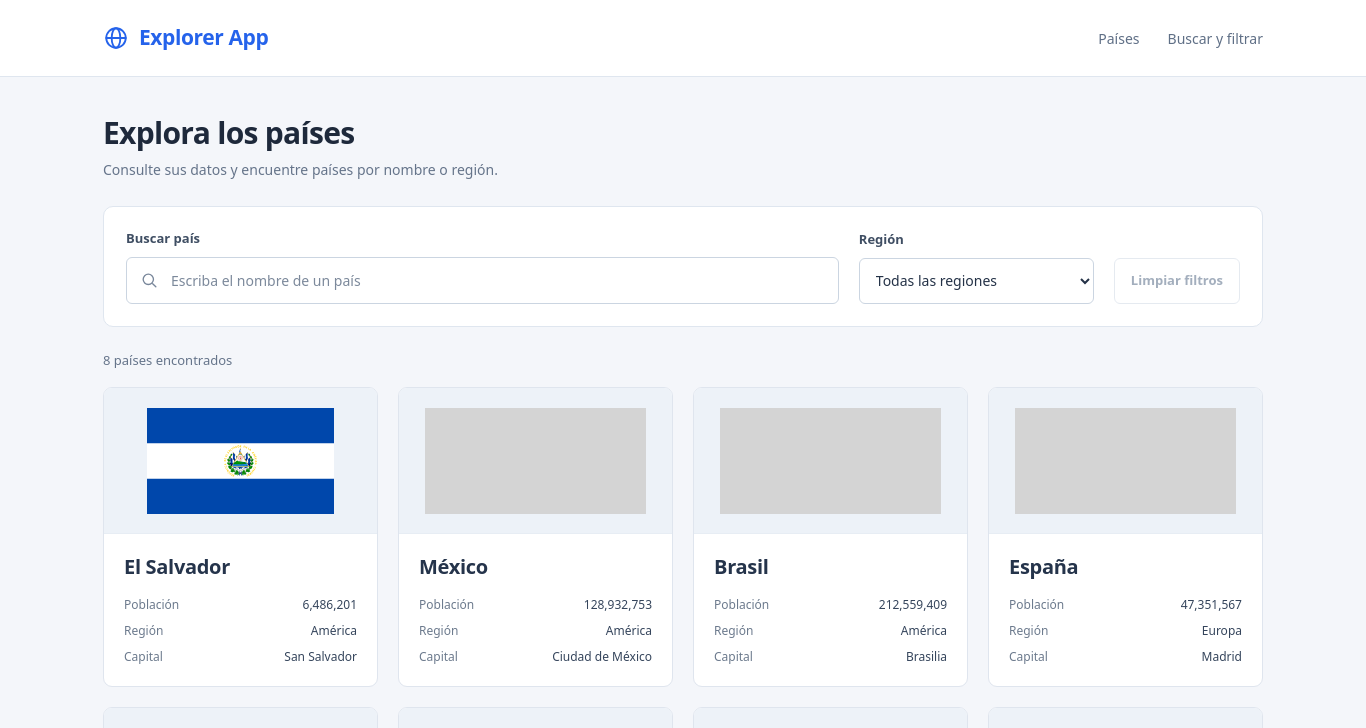
it: países y filtros › el botón de limpieza solo se habilita cuando hay filtros activos
The image size is (1366, 728).
Check: the button "Limpiar filtros" is disabled, box [1114,258,1240,304]
Select "Oceanía" in the dropdown labelled "Región" at (976, 280), box [859,258,1094,304]
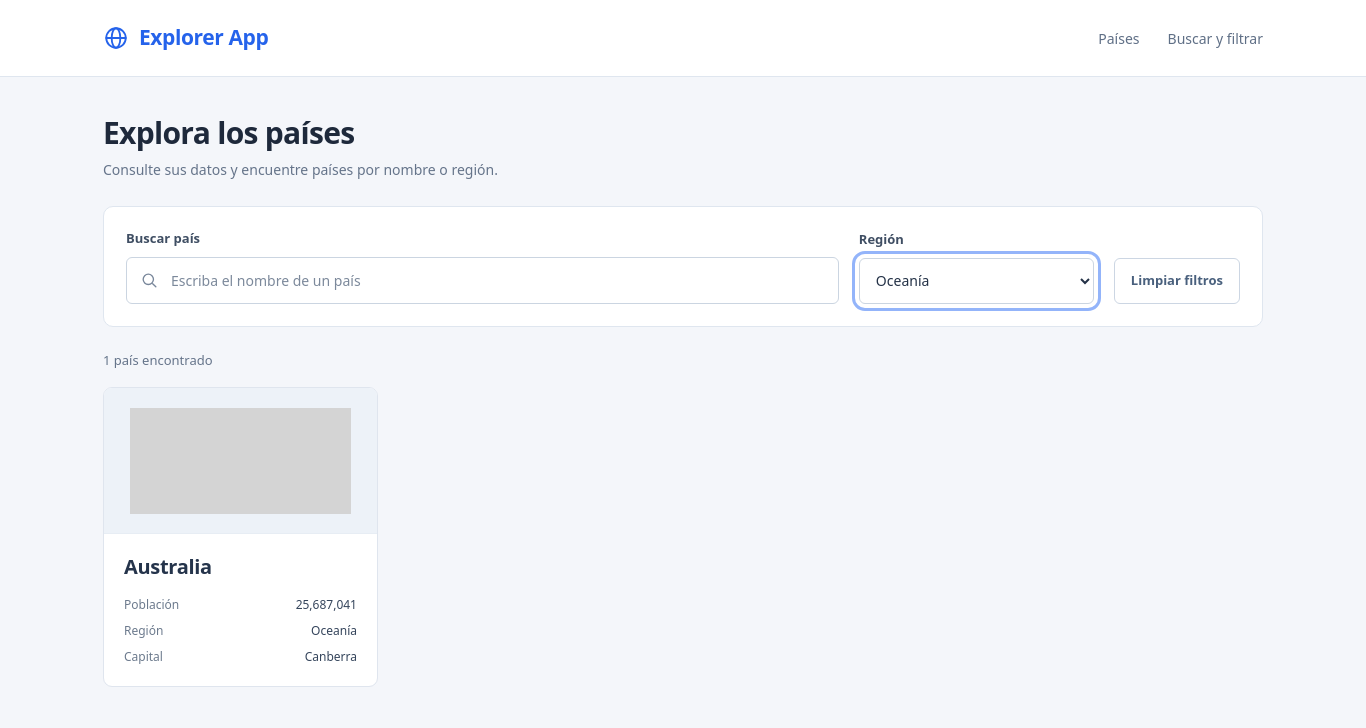
Check: the element "Australia" is shown, box [103,387,378,687]
Check: the button "Limpiar filtros" is enabled
Click the button "Limpiar filtros" at (1177, 280), box [1114,258,1240,304]
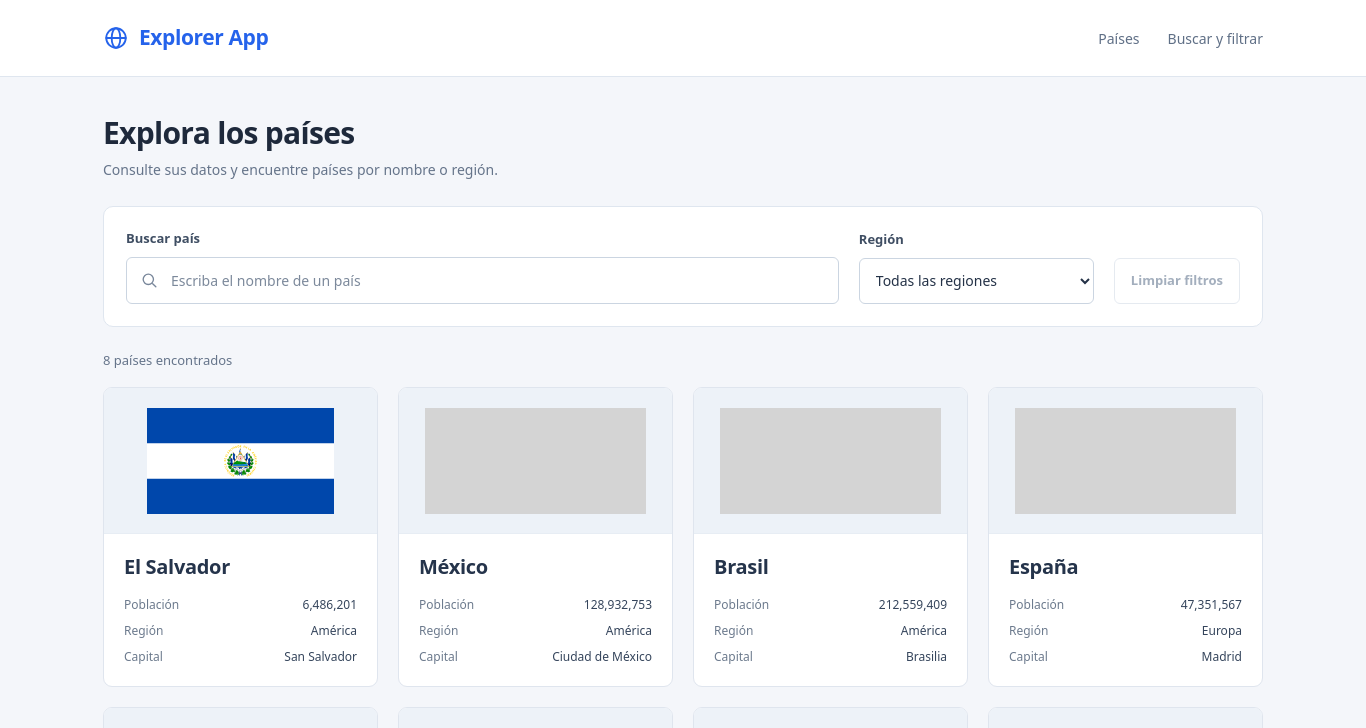
Check: the button "Limpiar filtros" is disabled, box [1114,258,1240,304]
